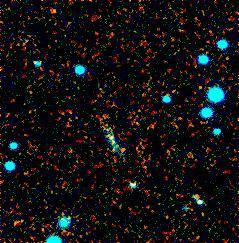star: (35, 0, 65, 20)
